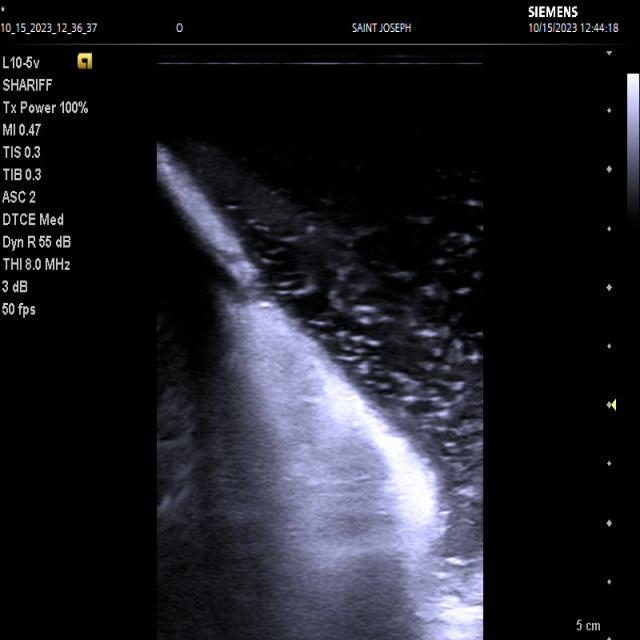tissue: (156, 146, 440, 640)
